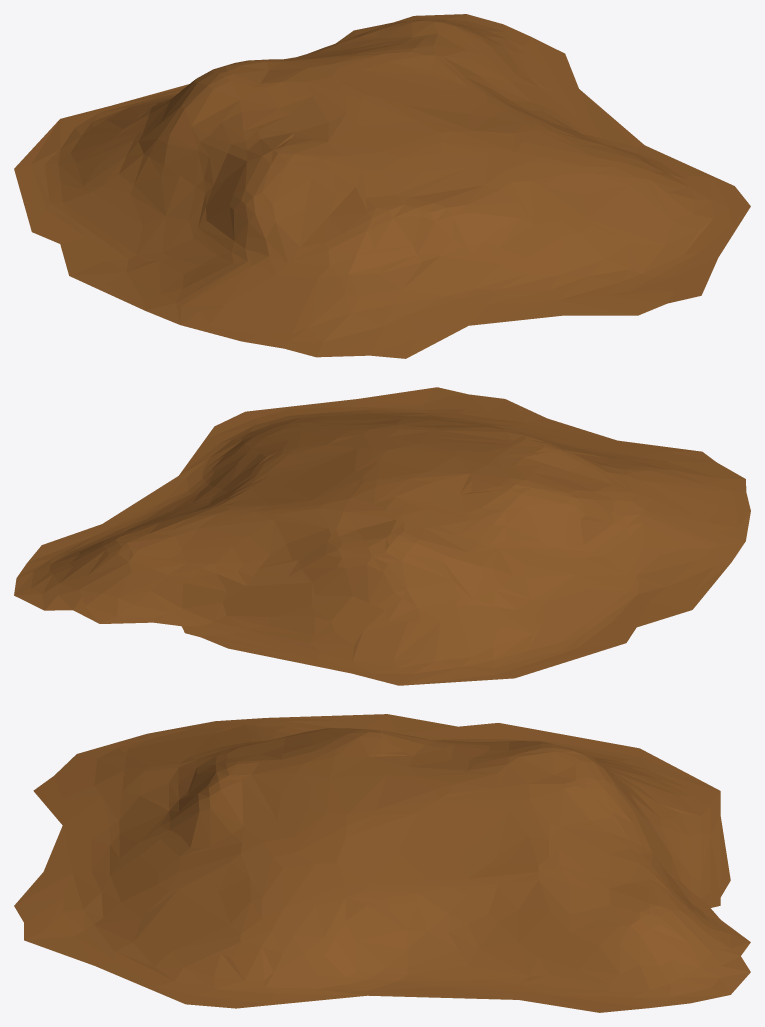
Rendered from Terrain 01.FBX.
3 renders of one model, top to bottom at view 1: azimuth 30°, elevation 25°; view 2: azimuth 150°, elevation 25°; view 3: azimuth 270°, elevation 25°, orthographic. The views are drawn at different scales.
Parts seen in each view (by area): view 1: plane; view 2: plane; view 3: plane.
Boxes of the visible parts, x1=… form: plane: x1=14, y1=14, x2=750, y2=358; plane: x1=14, y1=387, x2=750, y2=685; plane: x1=14, y1=714, x2=750, y2=1012.
Bounding box in the file's own units: 103 × 13.9 × 108.
